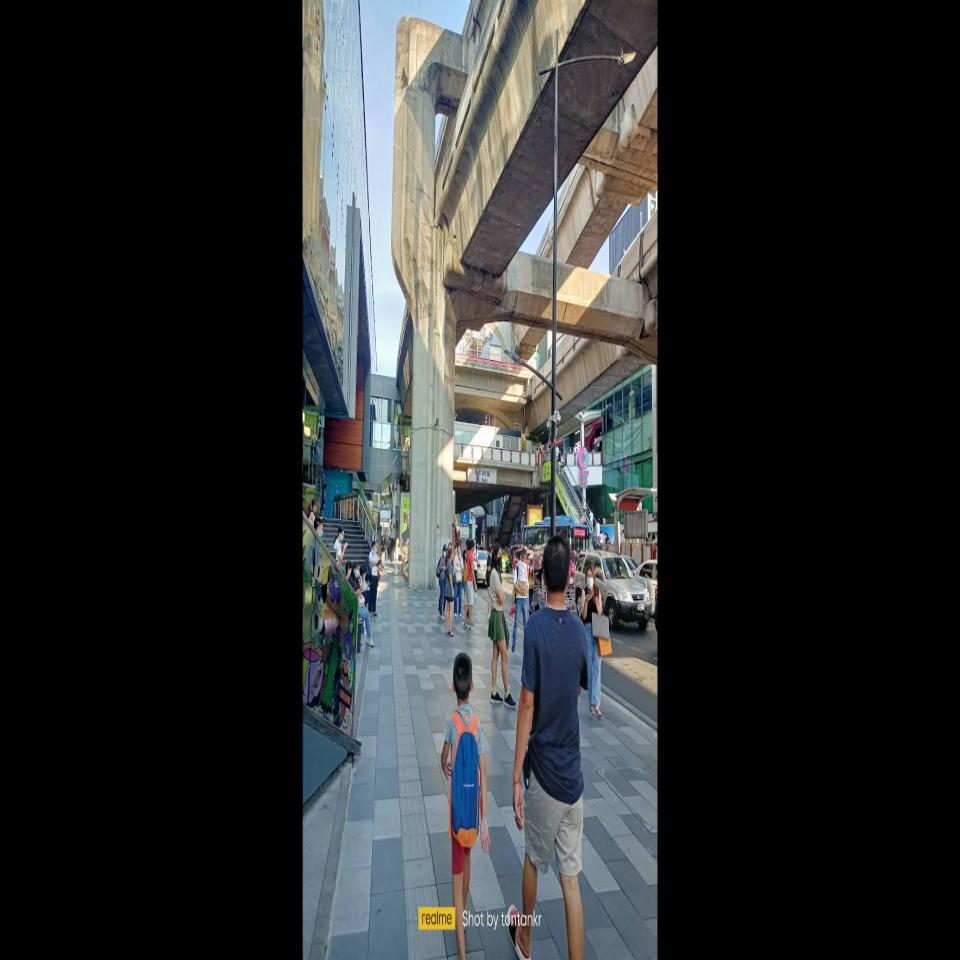signage: (475, 468, 490, 484), (482, 470, 490, 484)
